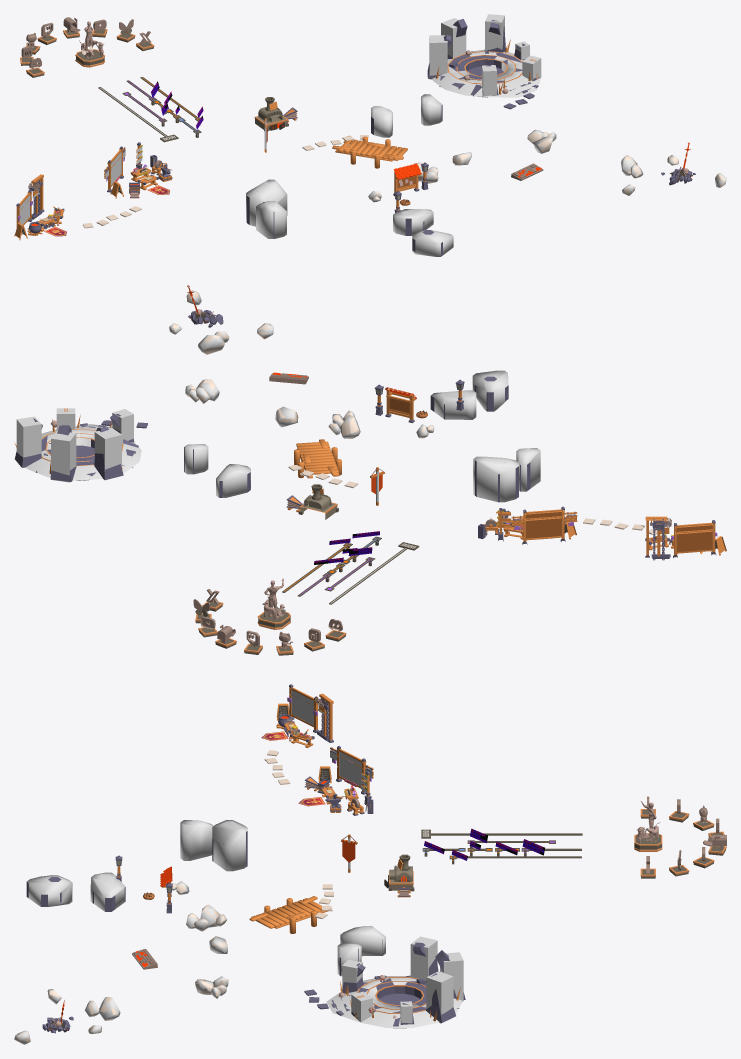
Rendered from sceneryStatic.glb.
3 renders of one model, top to bottom at view 1: azimuth 30°, elevation 25°; view 2: azimuth 150°, elevation 25°; view 3: azimuth 270°, elevation 25°, orthographic. The views are drawn at different scales.
Visible parts, largest first — view 1: trimesh.001, Cube.139, hull.016, Cylinder.021, hull.015, Cube.159, hull.011, hull.012, Cube.165, Cube.172, Cube.164, hull.014 (+6 smaller); view 2: hull.015, trimesh.001, Cube.139, Cube.172, Cube.159, hull.012, hull.011, Cube.164, Cylinder.022, Cube.146, hull.014, Cube.165 (+4 smaller); view 3: trimesh.001, hull.015, Cube.139, hull.016, Cube.172, Cylinder.021, Cube.159, hull.011, hull.014, hull.012, Cube.146, Cube.165 (+2 smaller).
Part boxes in pixels (x1,y1,x2,y2): trimesh.001: (432,50,541,97); Cube.139: (332,136,407,168); hull.016: (256,201,286,238); Cylinder.021: (448,52,538,94); hull.015: (246,179,287,226); Cube.159: (20,29,153,77); hull.011: (412,230,453,256); hull.012: (393,209,433,235); Cube.165: (429,35,447,79); Cube.172: (427,19,525,96); Cube.164: (441,18,466,58); hull.014: (371,106,392,137); hull.015: (473,456,518,502); trimesh.001: (26,424,141,480); Cube.139: (294,439,341,478); Cube.172: (15,414,134,481); Cube.159: (195,600,346,655); hull.012: (431,390,476,419); hull.011: (472,370,508,411); Cube.164: (51,430,76,482); Cylinder.022: (184,376,530,502); Cube.146: (16,416,41,467); hull.014: (216,464,250,497); Cube.165: (94,427,121,480); trimesh.001: (326,976,462,1028); hull.015: (212,820,247,871); Cube.139: (249,896,329,933); hull.016: (180,820,213,860); Cube.172: (342,942,465,1024); Cylinder.021: (331,978,426,1015); Cube.159: (640,809,726,878); hull.011: (27,875,71,906); hull.014: (340,926,385,956); hull.012: (90,872,125,911); Cube.146: (426,971,453,1023); Cube.165: (410,936,437,980).
Bounding box in the file's own units: 84.82 × 8.2 × 78.99.
Materials: 36 (10 with a texture image).
